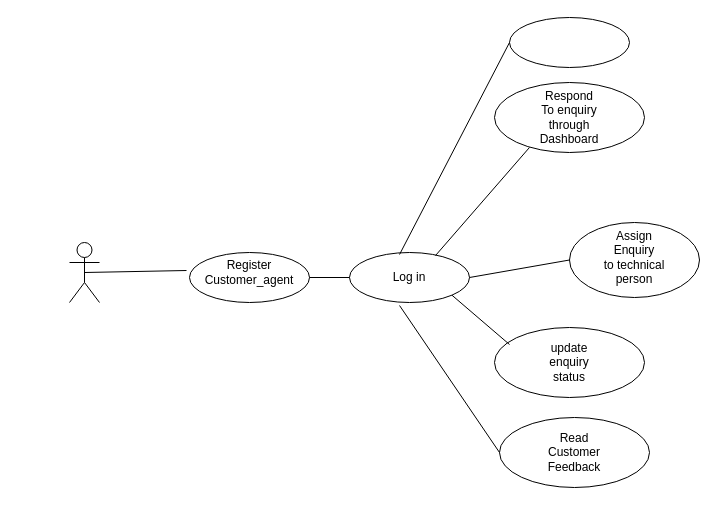
This 717x505 diagram has some shape labels left out. The box of each missing label's shape, as (x1, y1, x2, y2) in pixels:
Customer_Service_agent: (68, 242, 100, 302)
View Enquiry: (508, 16, 630, 68)
